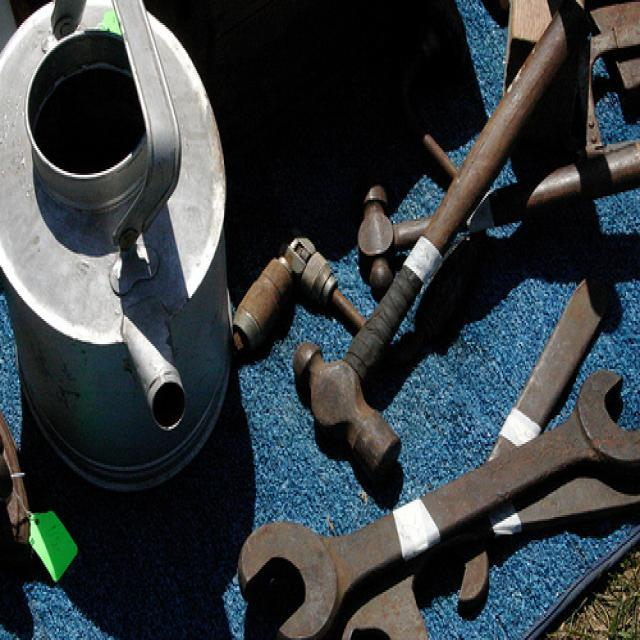hammer: (348, 182, 618, 298), (286, 314, 396, 500)
wrench: (237, 371, 640, 639)
